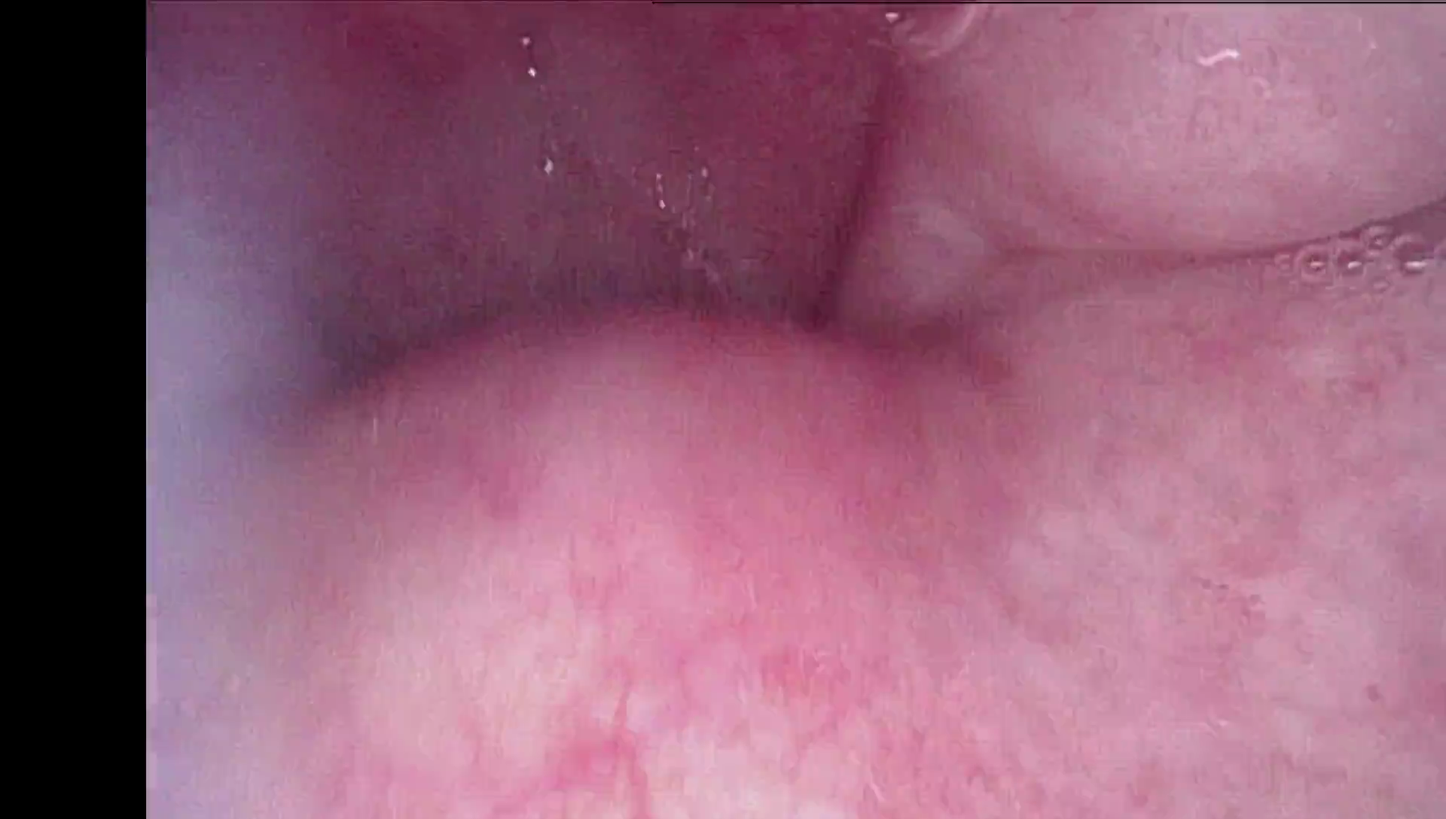close_wall: (265, 449, 1192, 819)
